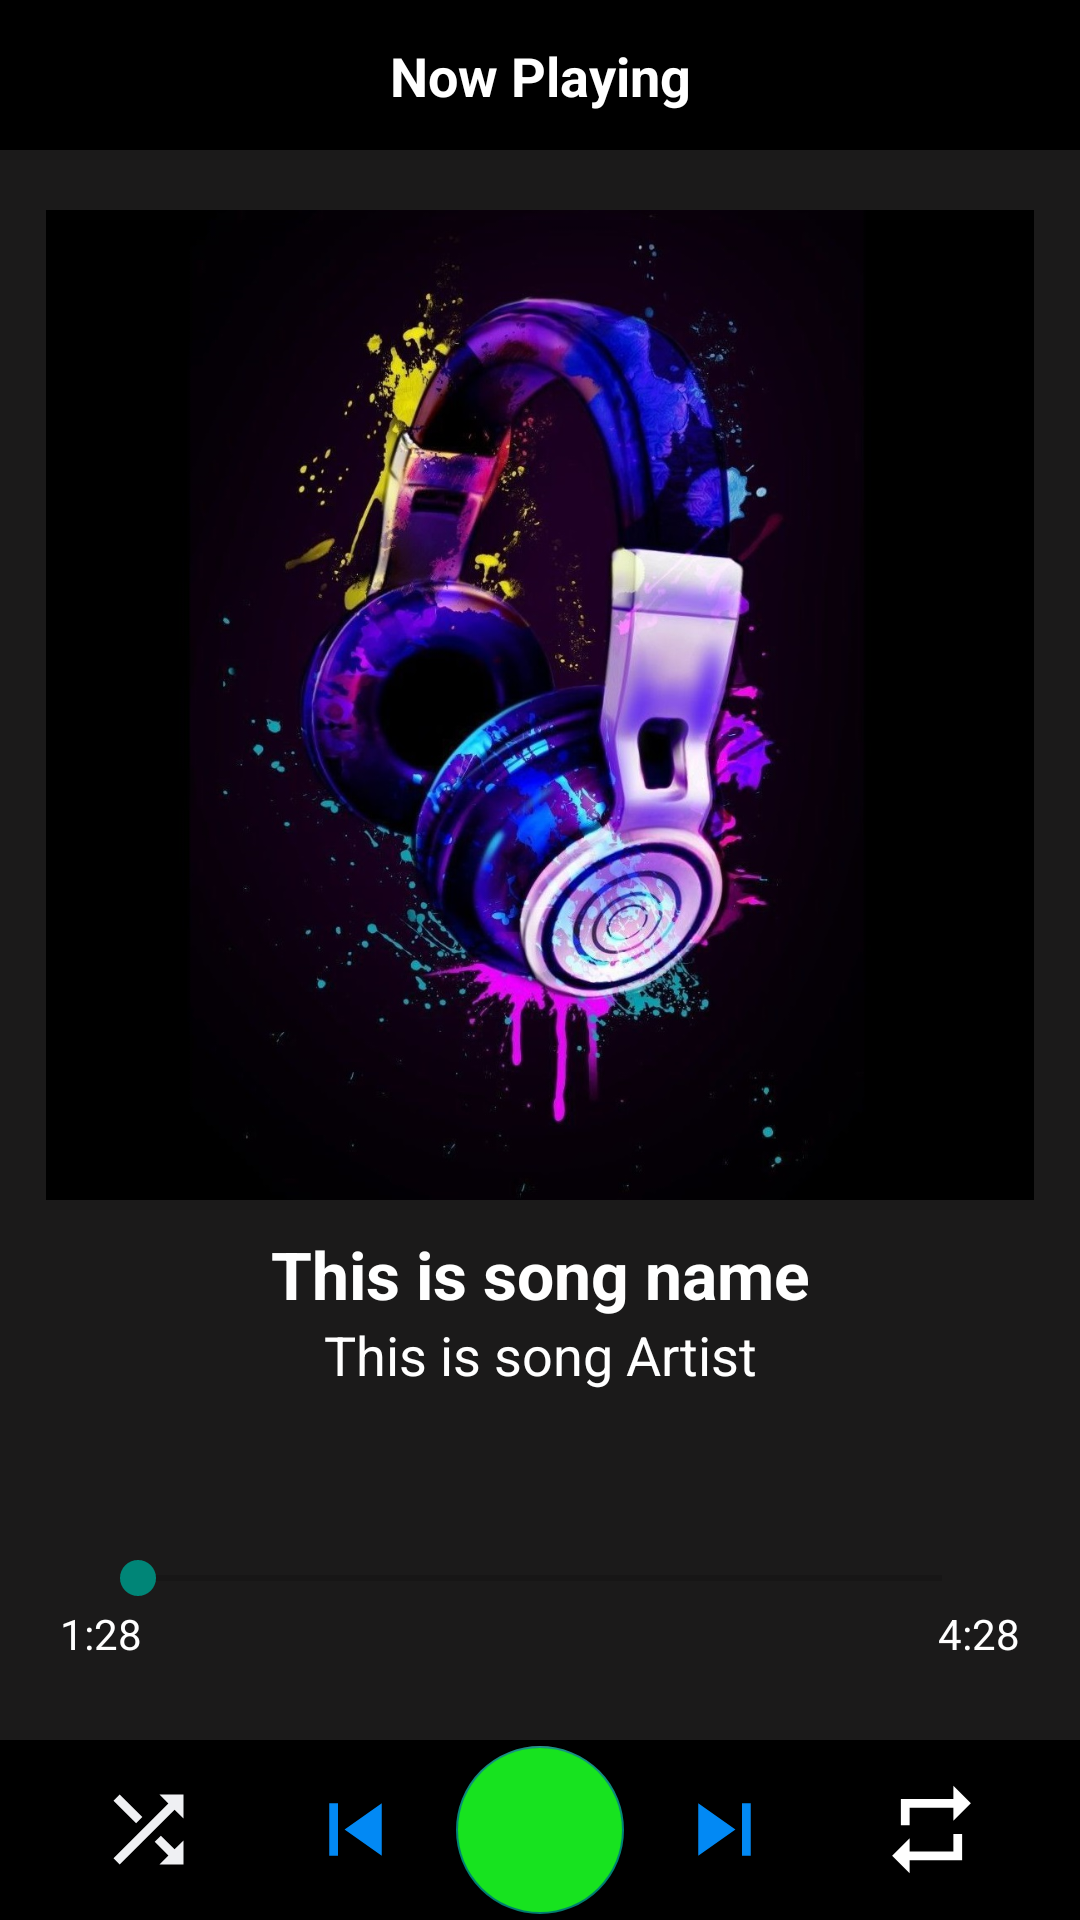

Named icons in this screenshot (1080px x 1920px) and their bounding boxes, bbox=(x1, y1, x2, y2):
repeat off: bbox=(892, 1786, 971, 1873)
shuffle off: bbox=(113, 1794, 184, 1865)
skip next: bbox=(698, 1803, 751, 1856)
skip previous: bbox=(329, 1803, 382, 1856)
